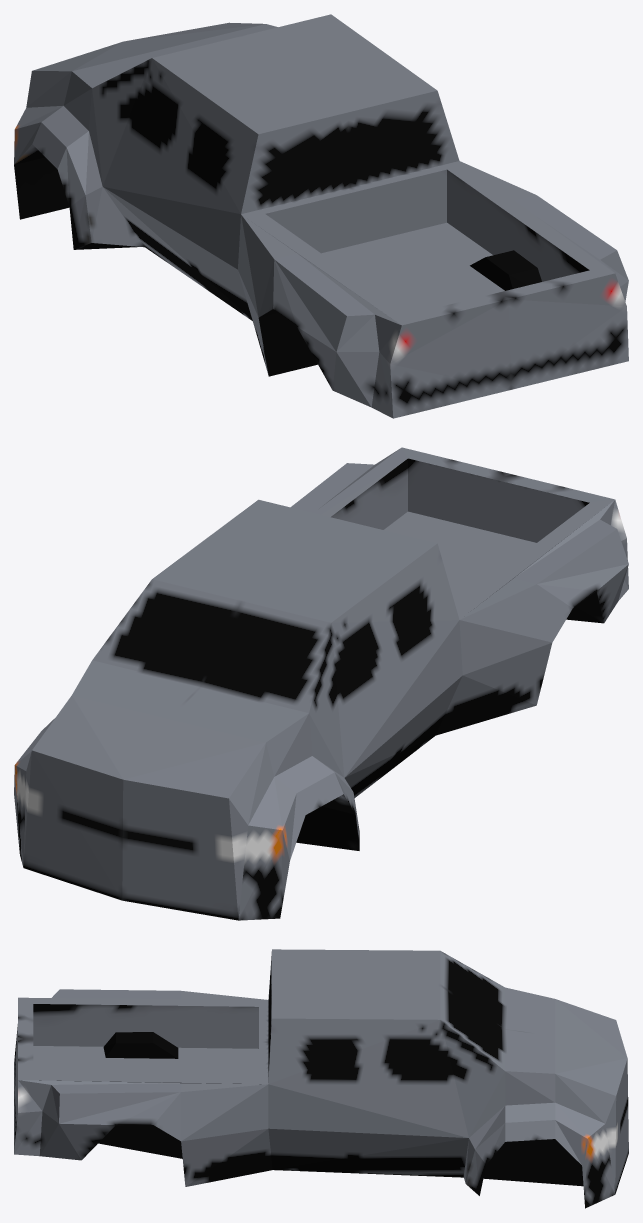
The model's file is gta_truck_body.obj.
3 renders of one model, top to bottom at view 1: azimuth 30°, elevation 25°; view 2: azimuth 150°, elevation 25°; view 3: azimuth 270°, elevation 25°, orthographic. The views are drawn at different scales.
Parts seen in each view (by area): view 1: gta_truck__Plane; view 2: gta_truck__Plane; view 3: gta_truck__Plane.
Part boxes in pixels (box(x1,y1,x2,y2)): gta_truck__Plane: box(14, 14, 628, 418); gta_truck__Plane: box(14, 447, 628, 920); gta_truck__Plane: box(14, 949, 628, 1208).
Size of the model in its own units: 4.76 by 3.34 by 10.69.
